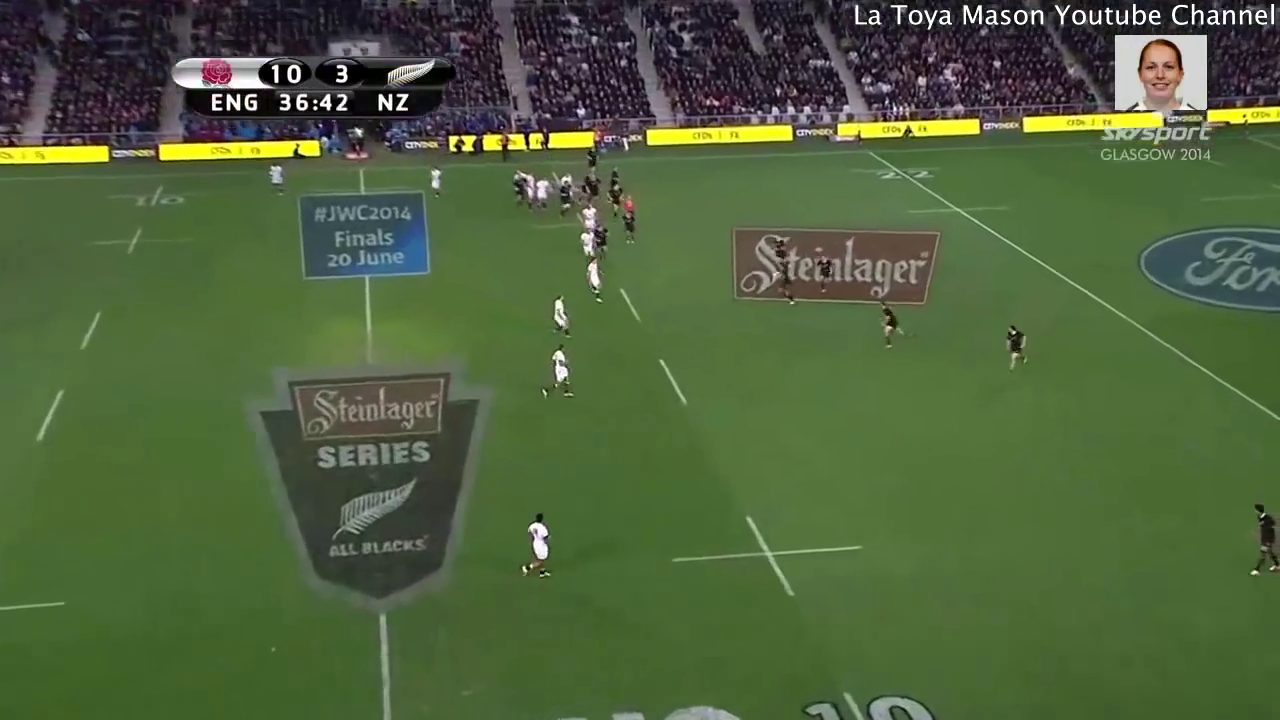10_metre: (663, 509, 870, 611), (793, 681, 950, 720), (72, 221, 201, 260), (102, 180, 217, 211)
player: (511, 508, 564, 591), (1245, 498, 1280, 587), (538, 340, 584, 404), (870, 292, 917, 349), (1003, 317, 1034, 382), (546, 290, 575, 340), (771, 258, 799, 309), (812, 244, 837, 300), (582, 256, 605, 304), (264, 161, 288, 203), (425, 162, 448, 204), (577, 223, 600, 264), (594, 222, 613, 268), (605, 180, 627, 218), (556, 177, 574, 222), (533, 173, 552, 214), (522, 170, 539, 214), (621, 207, 640, 246), (577, 201, 599, 232), (585, 171, 603, 208), (510, 170, 527, 207), (585, 146, 602, 177), (604, 162, 624, 187), (621, 191, 638, 215), (556, 170, 573, 190)
